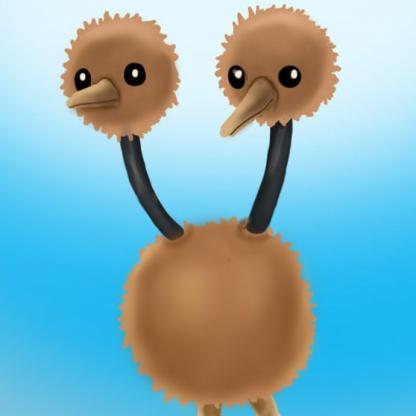Doduo: (61, 1, 357, 416)
